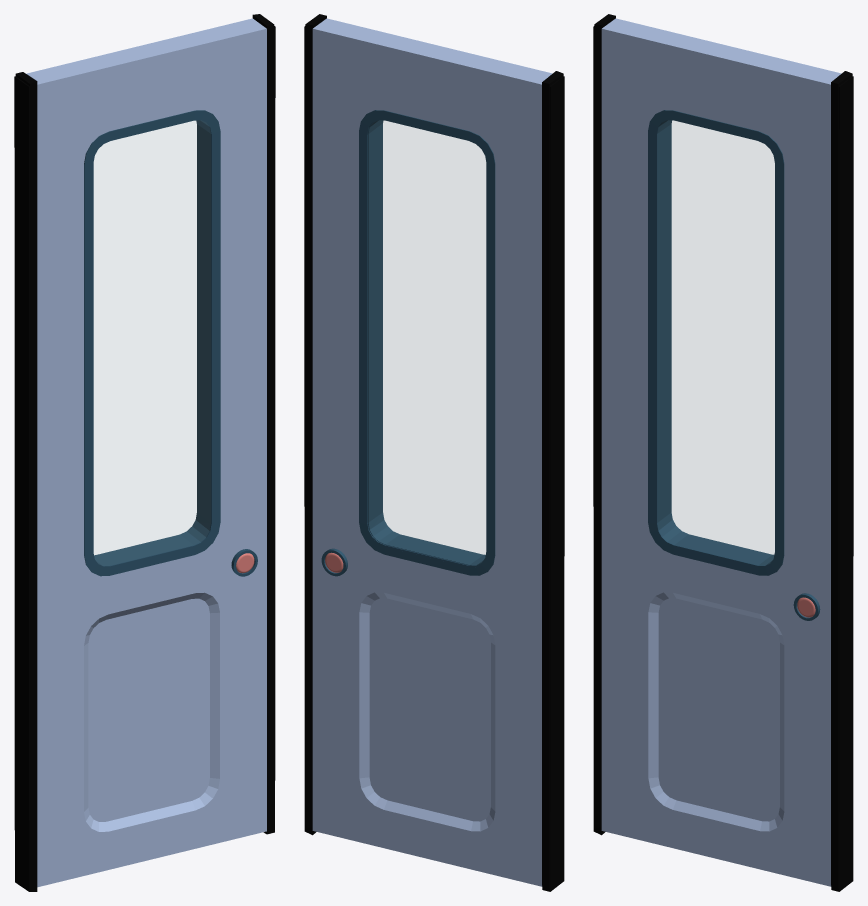
Rendered from door_slide.glb.
3 renders of one model, left to right at view 1: azimuth 30°, elevation 25°; view 2: azimuth 150°, elevation 25°; view 3: azimuth 330°, elevation 25°, orthographic.
Parts seen in each view (by area): view 1: DoorMain, glass, rubberEdge1, InnerFrame, rubberEdge2; view 2: DoorMain, glass, rubberEdge1, InnerFrame, rubberEdge2; view 3: DoorMain, glass, rubberEdge2, InnerFrame, rubberEdge1.
Part boxes in pixels (x1,y1,x2,y2): DoorMain: (26, 18, 266, 887); glass: (94, 121, 196, 554); rubberEdge1: (14, 72, 37, 891); InnerFrame: (84, 110, 220, 576); rubberEdge2: (252, 14, 275, 834); DoorMain: (312, 18, 552, 886); glass: (383, 121, 485, 554); rubberEdge1: (542, 71, 564, 891); InnerFrame: (359, 110, 495, 575); rubberEdge2: (304, 14, 326, 835); DoorMain: (601, 18, 841, 886); glass: (672, 121, 774, 554); rubberEdge2: (831, 71, 853, 891); InnerFrame: (648, 110, 784, 575); rubberEdge1: (593, 14, 615, 835).
Bounding box in the file's own units: 1.52 × 4.76 × 0.195.
